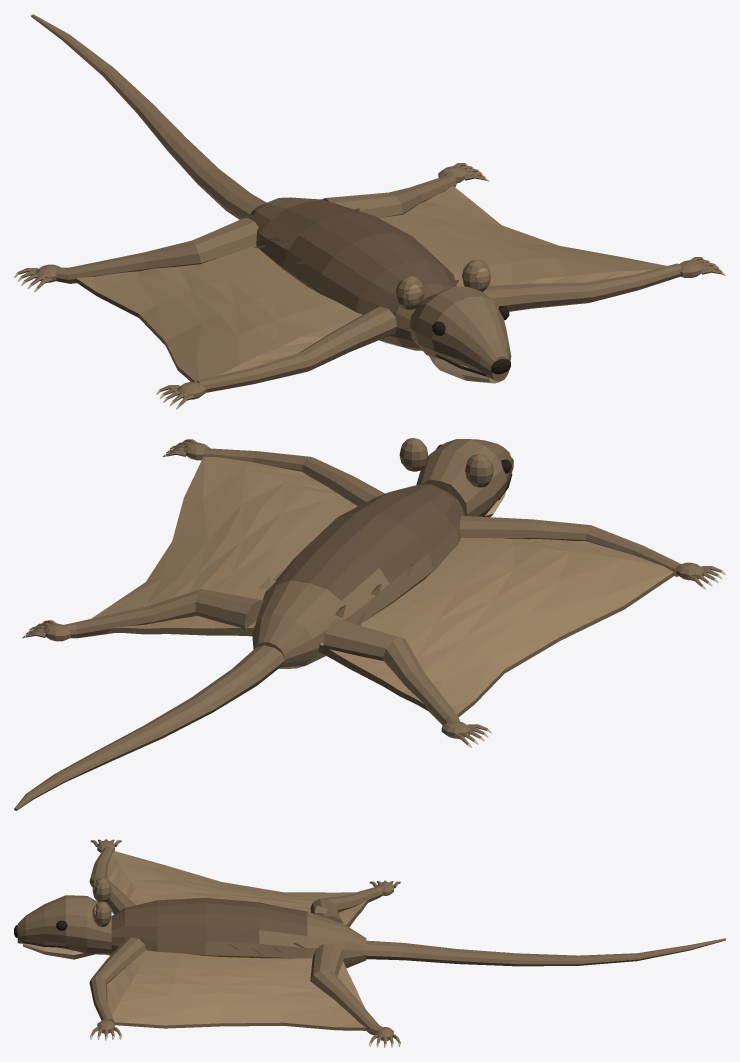
3 renders of one model, top to bottom at view 1: azimuth 30°, elevation 25°; view 2: azimuth 150°, elevation 25°; view 3: azimuth 270°, elevation 25°, orthographic. The views are drawn at different scales.
Parts seen in each view (by area): view 1: left-furred-patagium, torso, right-furred-patagium, head, slender-flattened-tail, left-forelimb, left-hindlimb, right-forelimb, right-hindlimb, lower-jaw; view 2: left-furred-patagium, right-furred-patagium, torso, slender-flattened-tail, right-hindlimb, left-hindlimb, head, left-forelimb, right-forelimb, left-ear, right-ear; view 3: right-furred-patagium, torso, left-furred-patagium, slender-flattened-tail, head, right-hindlimb, right-forelimb, left-hindlimb, left-forelimb, lower-jaw, left-ear, right-ear.
Part boxes in pixels (x1,y1,x2,y2): left-furred-patagium: [75, 245, 362, 381]; torso: [249, 197, 456, 350]; right-furred-patagium: [379, 186, 666, 286]; head: [409, 286, 511, 381]; slender-flattened-tail: [31, 14, 266, 219]; left-forelimb: [196, 306, 396, 392]; left-hindlimb: [55, 217, 258, 283]; right-forelimb: [483, 263, 681, 311]; right-hindlimb: [322, 171, 458, 217]; lower-jaw: [429, 356, 500, 383]; left-furred-patagium: [318, 538, 674, 716]; right-furred-patagium: [91, 457, 357, 636]; torso: [252, 484, 464, 668]; slender-flattened-tail: [14, 645, 285, 810]; right-hindlimb: [62, 589, 263, 638]; left-hindlimb: [323, 618, 459, 724]; head: [416, 439, 513, 516]; left-forelimb: [459, 515, 681, 576]; right-forelimb: [202, 448, 384, 506]; left-ear: [465, 454, 493, 487]; right-ear: [399, 438, 428, 471]; right-furred-patagium: [107, 950, 366, 1030]; torso: [108, 897, 366, 968]; left-furred-patagium: [107, 851, 368, 927]; slender-flattened-tail: [366, 938, 725, 966]; head: [17, 895, 111, 954]; right-hindlimb: [310, 944, 382, 1035]; right-forelimb: [89, 937, 145, 1022]; left-hindlimb: [310, 885, 383, 923]; left-forelimb: [89, 846, 135, 914]; lower-jaw: [23, 943, 97, 959]; left-ear: [93, 877, 111, 901]; right-ear: [94, 901, 111, 926].
Bounding box in the file's own units: 0.1762 × 0.0316 × 0.2654.
